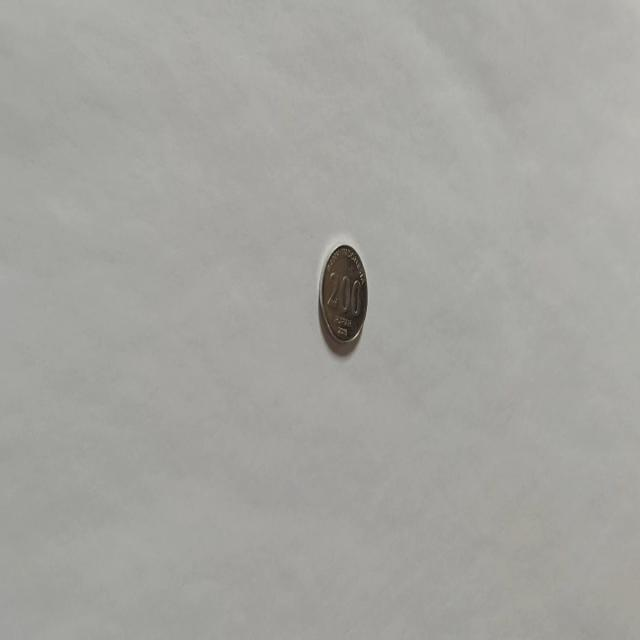dua ratus rupiah: (318, 242, 368, 346)
